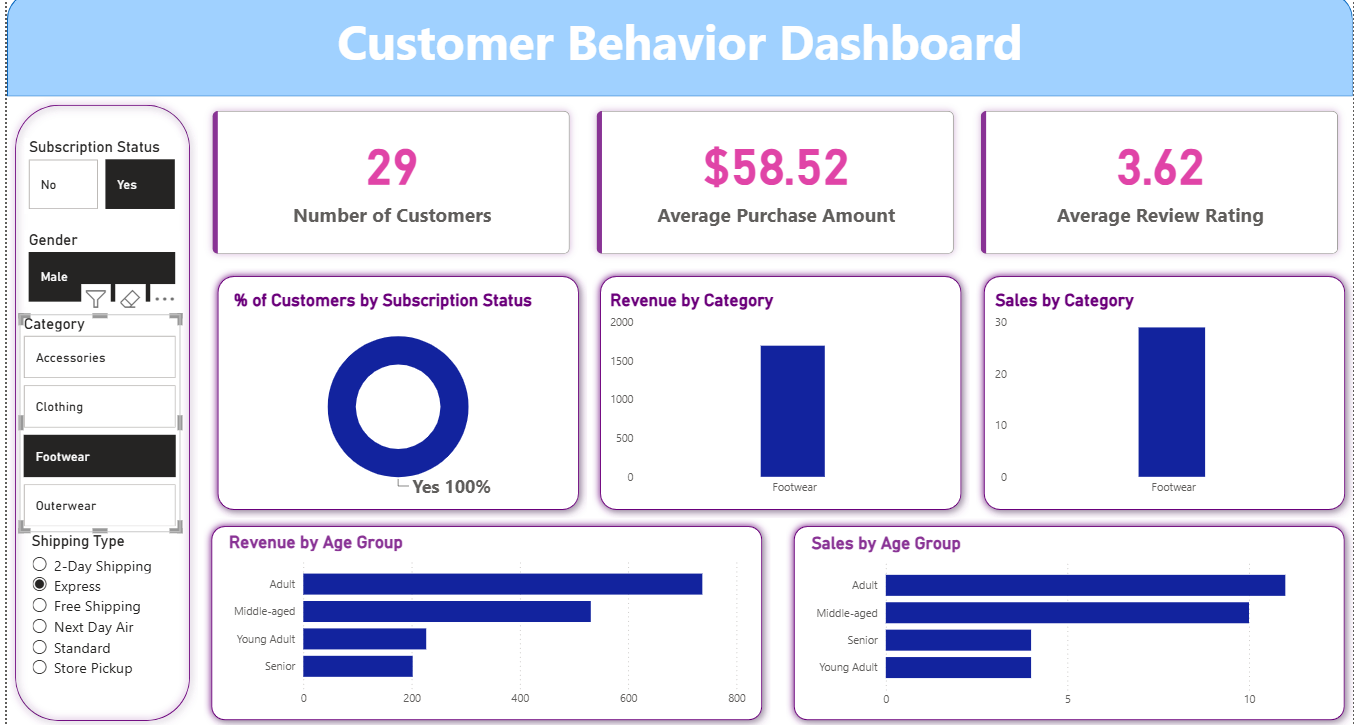

What the dashboard file says about the page in this screenshot:
{"tool":"powerbi","page":{"name":"Page 1","canvas":[1500,820],"ordinal":0},"visuals":[{"type":"cardVisual","fields":{"Data":["public customer.Number of Customers","public customer.Average Purchase Amount","public customer.Average Review Rating"]},"box":[212.9,115.3,1286.5,191.6],"z":2000},{"type":"shape","box":[218.3,585.6,631.7,234.2],"z":2500,"group":"g1"},{"type":"shape","box":[0,0,1499.4,115.3],"z":3000},{"type":"textbox","box":[0,12.4,1499.4,102.9],"z":4000},{"type":"shape","box":[225.4,307,420.5,278.6],"z":5000},{"type":"donutChart","title":"% of Customers by Subscription Status","fields":{"Category":["public customer.subscription_status"],"Y":["CountNonNull(public customer.customer_id)"]},"box":[248.4,331.8,376.2,237.8],"z":6000},{"type":"shape","box":[1078.9,307,420.5,278.6],"z":7000},{"type":"shape","box":[652.1,307,420.5,278.6],"z":8000},{"type":"clusteredColumnChart","title":"Revenue by Category","fields":{"Y":["Sum(public customer.purchase_amount)"],"Category":["public customer.category"]},"box":[667.2,331.8,385.1,237.8],"z":9000},{"type":"clusteredColumnChart","title":"Sales by Category","fields":{"Y":["CountNonNull(public customer.customer_id)"],"Category":["public customer.category"]},"box":[1096.6,331.8,385.1,237.8],"z":10000},{"type":"shape","box":[0,115.3,212.9,704.5],"z":11000},{"type":"advancedSlicerVisual","fields":{"Values":["public customer.subscription_status"]},"box":[19.5,161.5,173.9,85.2],"z":12000},{"type":"advancedSlicerVisual","fields":{"Values":["public customer.gender"]},"box":[19.5,264.4,173.9,85.2],"z":13000},{"type":"advancedSlicerVisual","fields":{"Values":["public customer.category"]},"box":[13.9,357.9,179.7,242.3],"z":14000},{"type":"listSlicer","fields":{"Values":["public customer.shipping_type"]},"box":[22.3,600.2,168.5,220],"z":15000},{"type":"shape","box":[867.7,585.6,631.7,234.2],"z":16000},{"type":"clusteredBarChart","title":"Sales by Age Group","fields":{"Y":["CountNonNull(public customer.customer_id)"],"Category":["public customer.age_group"]},"box":[890.8,601.5,585.6,204.1],"z":17000},{"type":"clusteredBarChart","title":"Revenue by Age Group","fields":{"Y":["Sum(public customer.purchase_amount)"],"Category":["public customer.age_group"]},"box":[241.4,601.6,585.6,204.1],"z":17500,"group":"g1"},{"type":"group","id":"g1","title":"Group 1","box":[218.3,585.6,631.7,234.2],"z":17501}]}

Visuals, with their boxes in screenshot pixels (x1, y1, x2, y2), scaled from the page's 1500x820 canvas onto the 1354x725 screenshot:
cardVisual - public customer.Number of Customers x public customer.Average Purchase Amount: rect(192, 102, 1353, 271)
shape: rect(197, 518, 767, 724)
shape: rect(0, 0, 1353, 102)
textbox: rect(0, 11, 1353, 102)
shape: rect(203, 271, 583, 518)
"% of Customers by Subscription Status" donutChart: rect(224, 293, 564, 504)
shape: rect(974, 271, 1353, 518)
shape: rect(589, 271, 968, 518)
"Revenue by Category" clusteredColumnChart: rect(602, 293, 950, 504)
"Sales by Category" clusteredColumnChart: rect(990, 293, 1337, 504)
shape: rect(0, 102, 192, 724)
advancedSlicerVisual - public customer.subscription_status: rect(18, 143, 175, 218)
advancedSlicerVisual - public customer.gender: rect(18, 234, 175, 309)
advancedSlicerVisual - public customer.category: rect(13, 316, 175, 531)
listSlicer - public customer.shipping_type: rect(20, 531, 172, 724)
shape: rect(783, 518, 1353, 724)
"Sales by Age Group" clusteredBarChart: rect(804, 532, 1333, 712)
"Revenue by Age Group" clusteredBarChart: rect(218, 532, 747, 712)
"Group 1" group: rect(197, 518, 767, 724)
